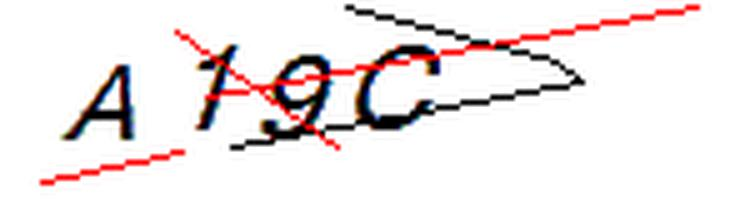1: (176, 34, 246, 137)
9: (254, 47, 337, 146)
A: (55, 55, 155, 149)
C: (347, 37, 453, 139)
